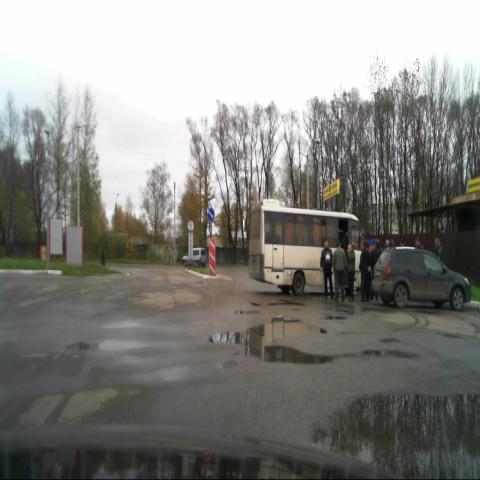4_2_1: (207, 206, 215, 221)
